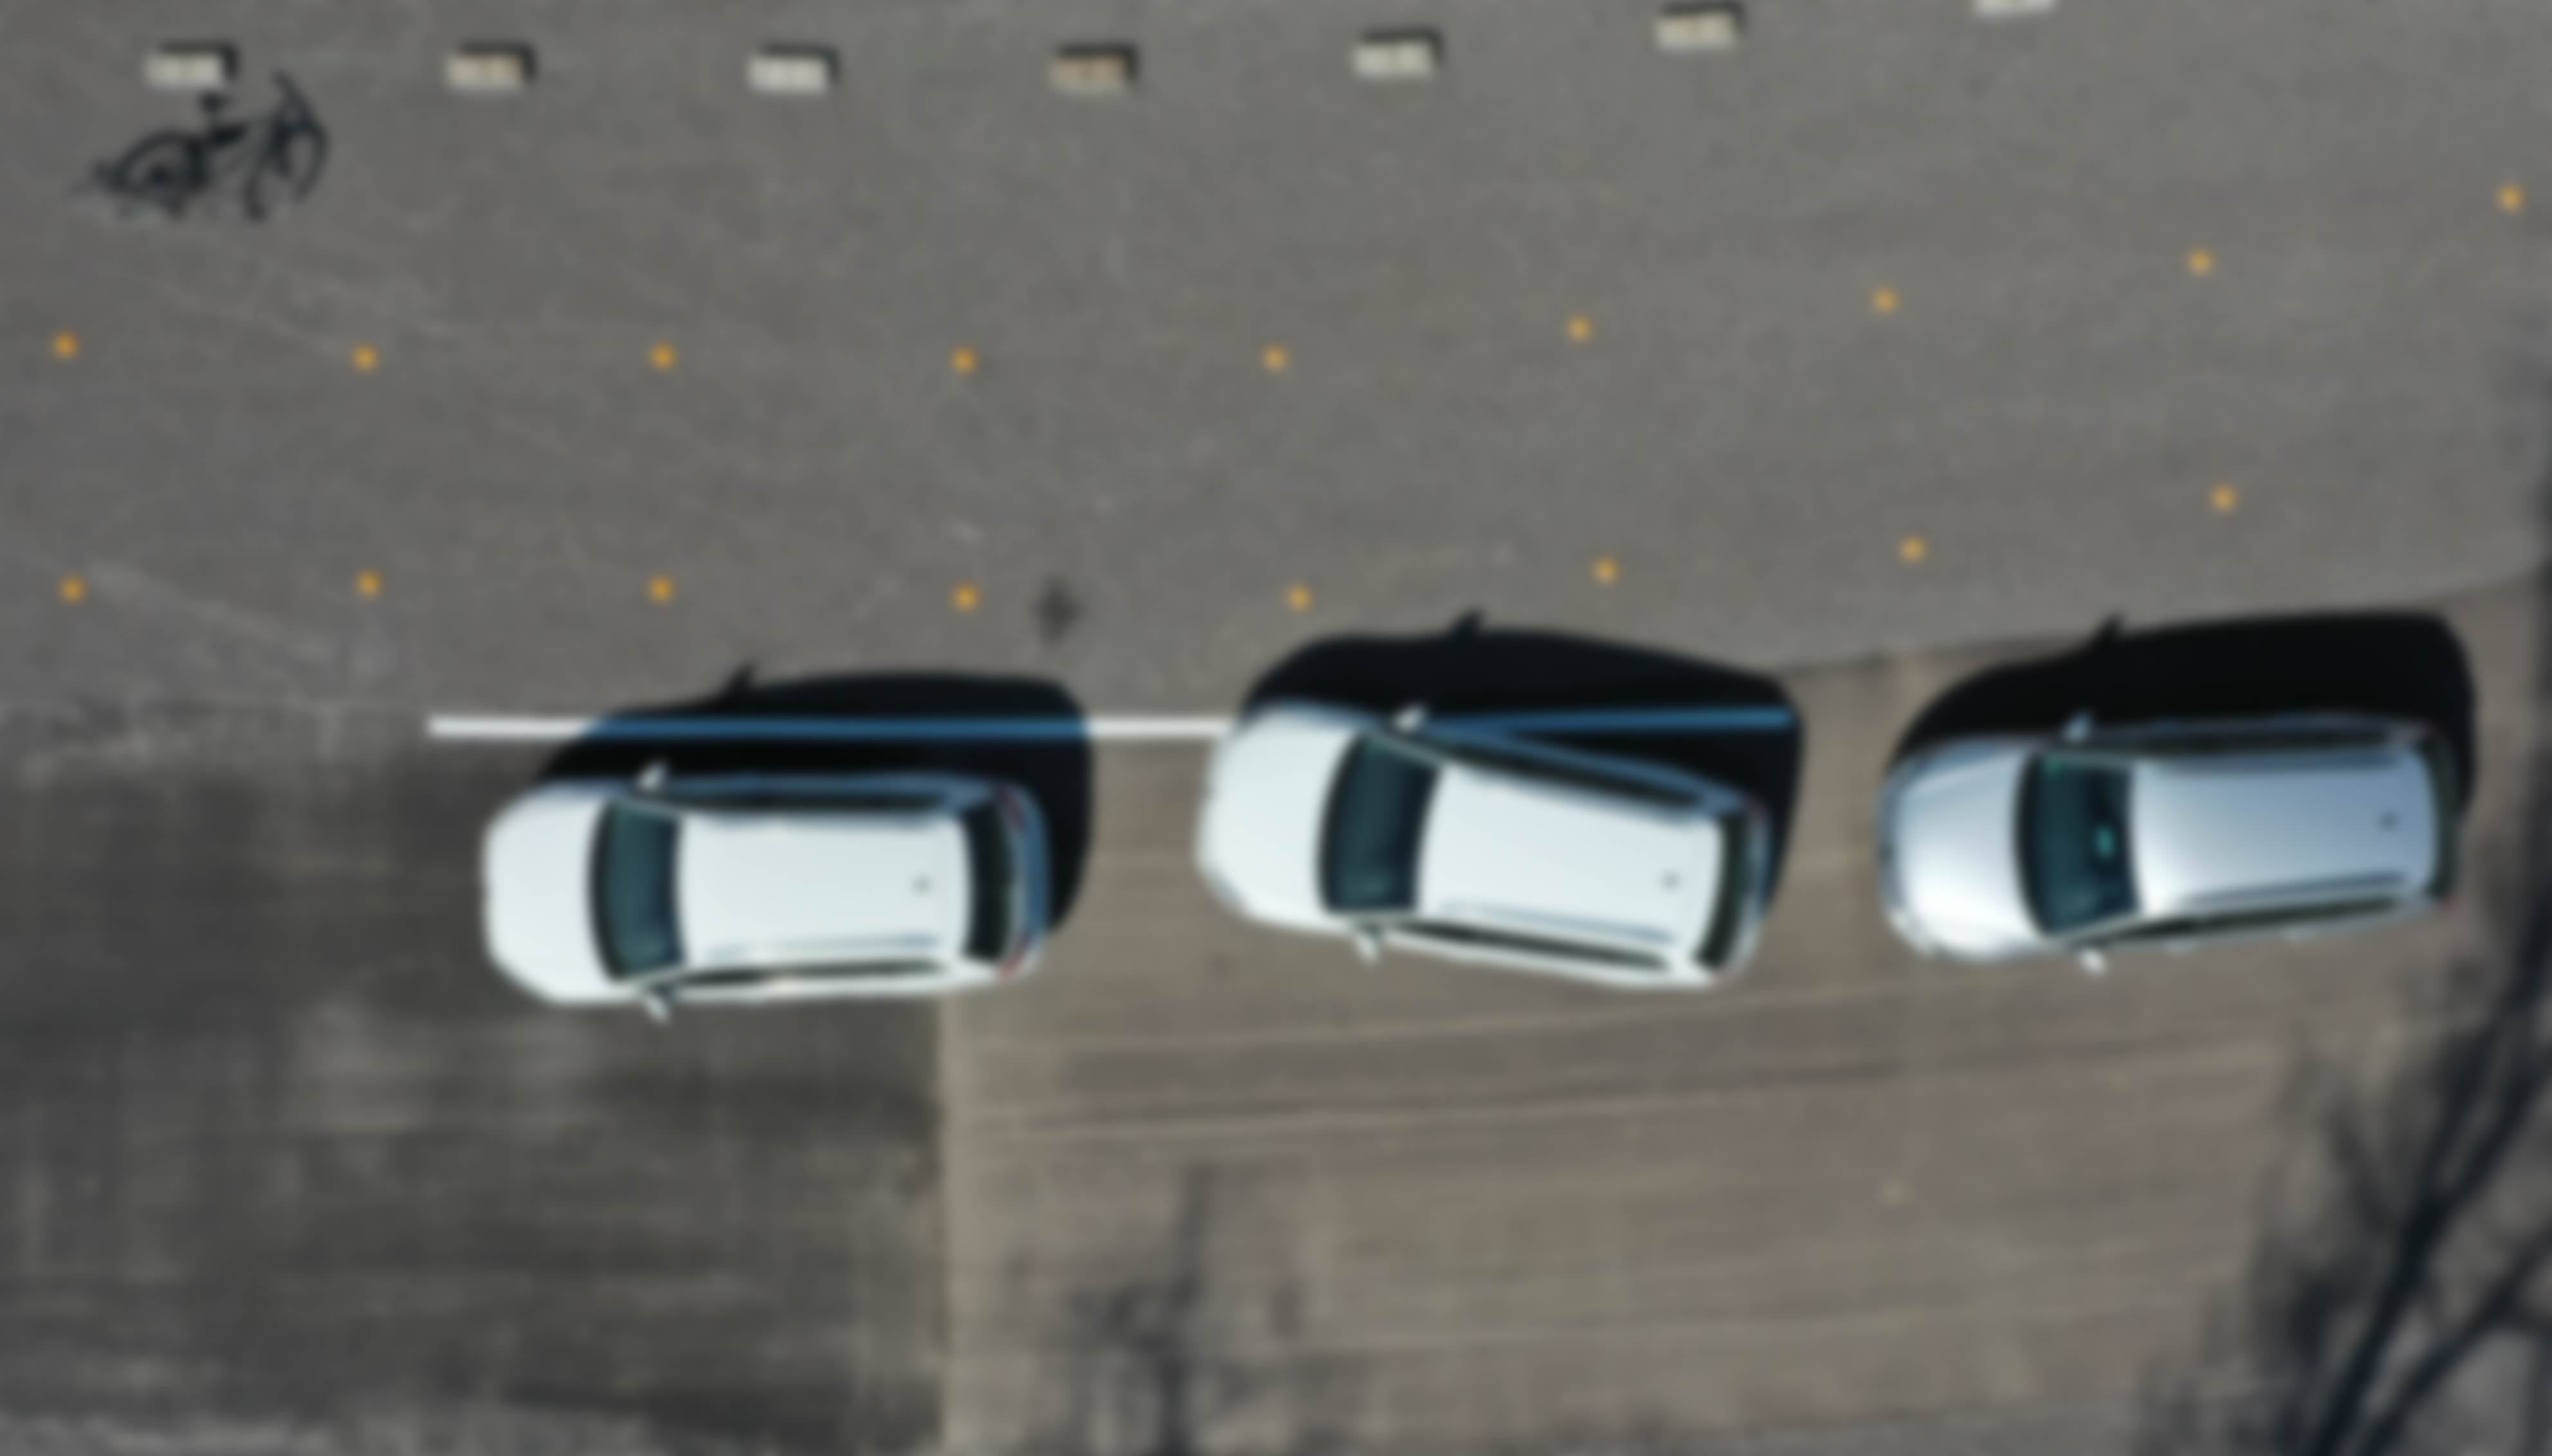Car: (1192, 689, 1781, 1004), (1861, 704, 2473, 960), (464, 757, 1057, 1016)
LaneMark: (422, 706, 1209, 745), (1521, 708, 1804, 743)
